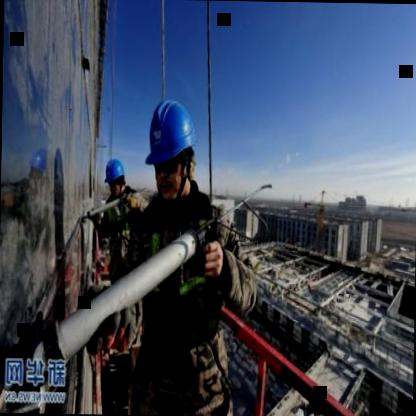helmet: (140, 92, 195, 211), (102, 152, 128, 197)
